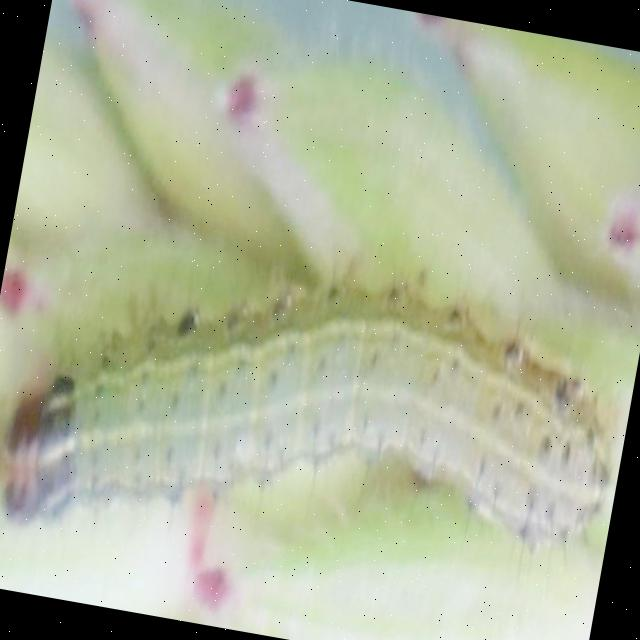worm: (1, 223, 639, 629)
